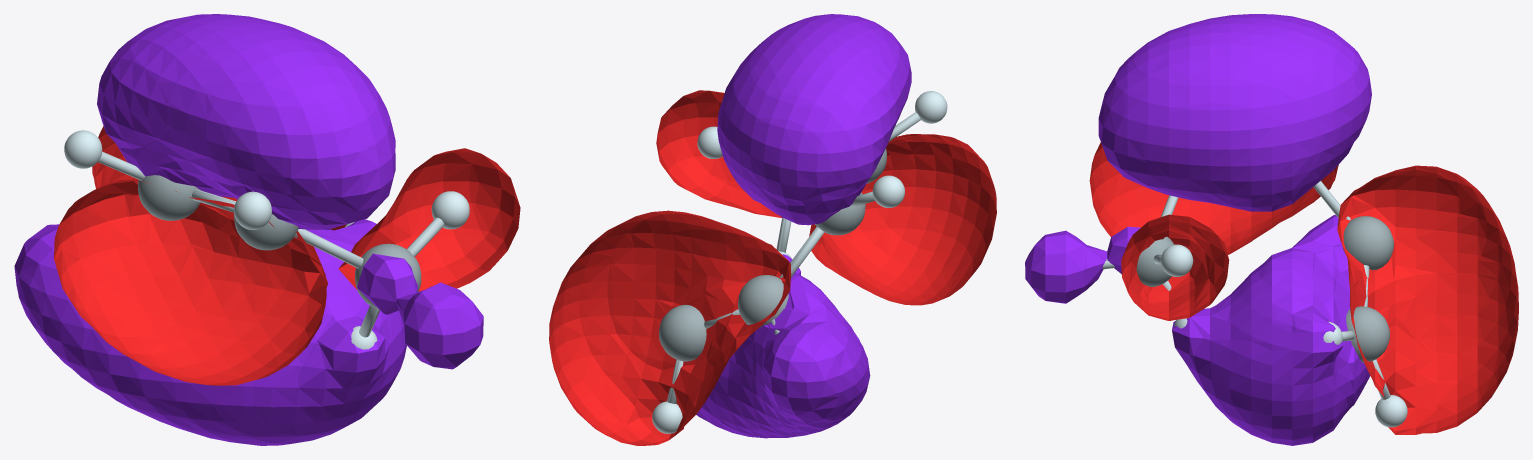
The picture shows the model from 3 angles, left to right: view 1: azimuth 30°, elevation 25°; view 2: azimuth 150°, elevation 25°; view 3: azimuth 270°, elevation 25°; orthographic projection. The views are drawn at different scales.
Parts seen in each view (by area): view 1: Renderer Node; view 2: Renderer Node; view 3: Renderer Node.
Boxes of the visible parts, x1,y1,x2,y2 form: Renderer Node: [14, 14, 520, 445]; Renderer Node: [549, 14, 996, 445]; Renderer Node: [1025, 14, 1518, 445].
Bounding box in the file's own units: 4.82 × 5.16 × 6.06.
